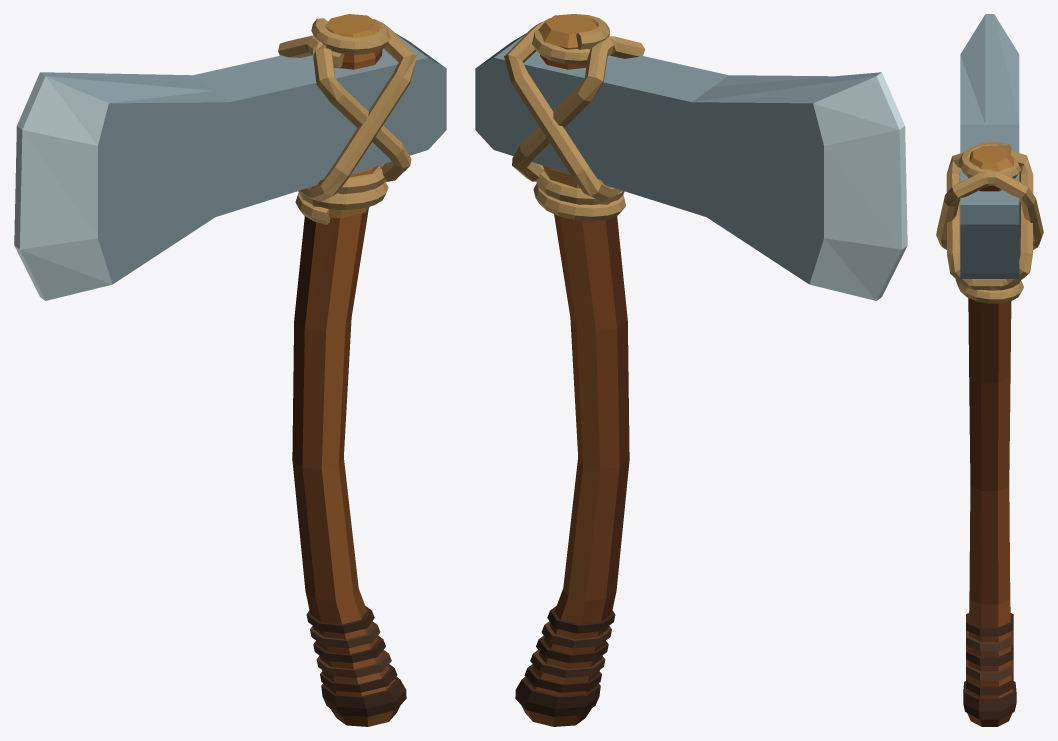
File: axe.obj
The picture shows the model from 3 angles, left to right: view 1: azimuth 30°, elevation 25°; view 2: azimuth 150°, elevation 25°; view 3: azimuth 270°, elevation 25°; orthographic projection. The views are drawn at different scales.
Parts seen in each view (by area): view 1: SurvivalAxe, Lashing; view 2: SurvivalAxe, Lashing; view 3: SurvivalAxe, Lashing.
Boxes of the visible parts, x1,y1,x2,y2 form: SurvivalAxe: (14, 14, 446, 726); Lashing: (278, 18, 416, 224); SurvivalAxe: (475, 14, 907, 726); Lashing: (504, 14, 645, 221); SurvivalAxe: (960, 14, 1019, 726); Lashing: (936, 142, 1043, 303).
Size of the model in its own units: 1.12 by 1.88 by 0.3176.
